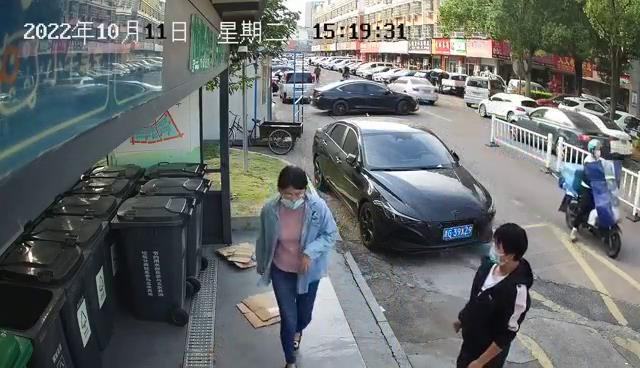person: (451, 221, 535, 368)
worker: (253, 163, 340, 368)
zhizhipin: (235, 288, 282, 329), (215, 240, 259, 269)
